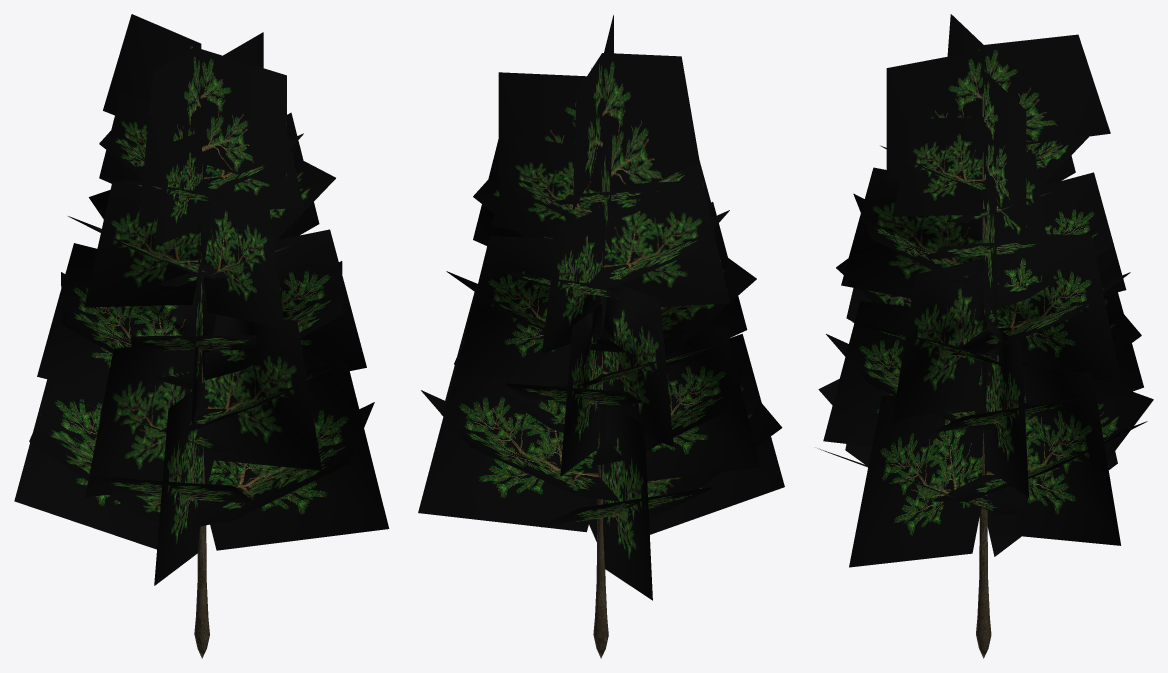
File: ever_endr_babyredwood_a1_l0.fbx
3 views of the same model, side by side, from view 1: azimuth 30°, elevation 25°; view 2: azimuth 150°, elevation 25°; view 3: azimuth 270°, elevation 25° (orthographic).
Visible parts, largest first — view 1: mesh_node; view 2: mesh_node; view 3: mesh_node.
Boxes of the visible parts, box(x1,y1,x2,y2) form: mesh_node: box(14, 14, 389, 658); mesh_node: box(418, 15, 784, 658); mesh_node: box(817, 14, 1153, 658).
Bounding box in the file's own units: 11.92 × 23.68 × 11.92.
